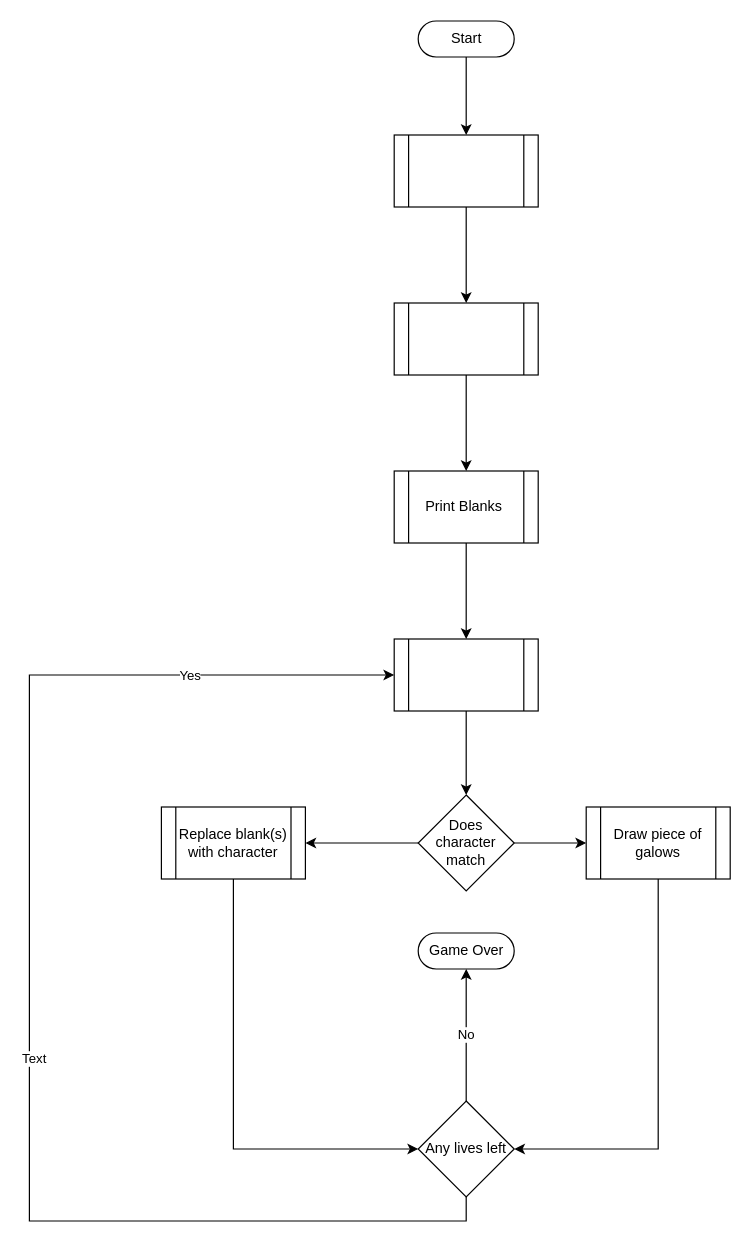
Some shapes in this 751 by 1252 pixel diagram are drawn without their labels. Here are the shapes that lost their labels. From the top down, the box of each, then its label:
(393, 134, 538, 207): Generate Random Word
(393, 302, 538, 375): Print Welcome Message
(393, 638, 538, 711): Invite User to Enter a character
